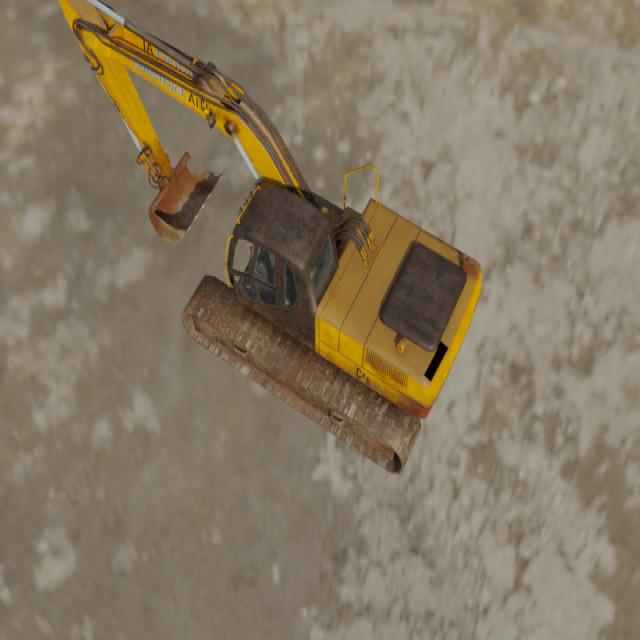excavator: (58, 0, 482, 476)
